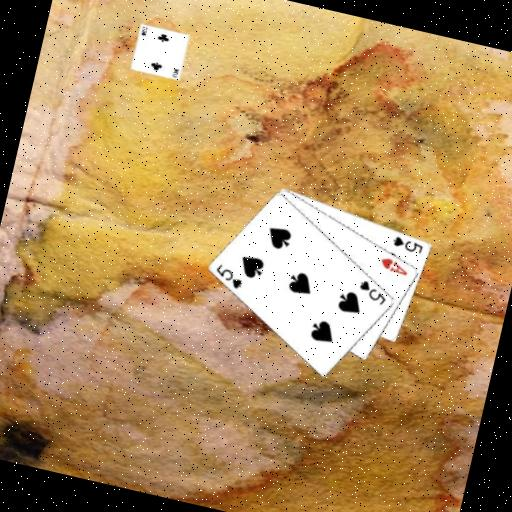5S: (354, 276, 391, 308), (211, 260, 248, 292), (389, 232, 426, 256)
AH: (376, 253, 412, 278)
